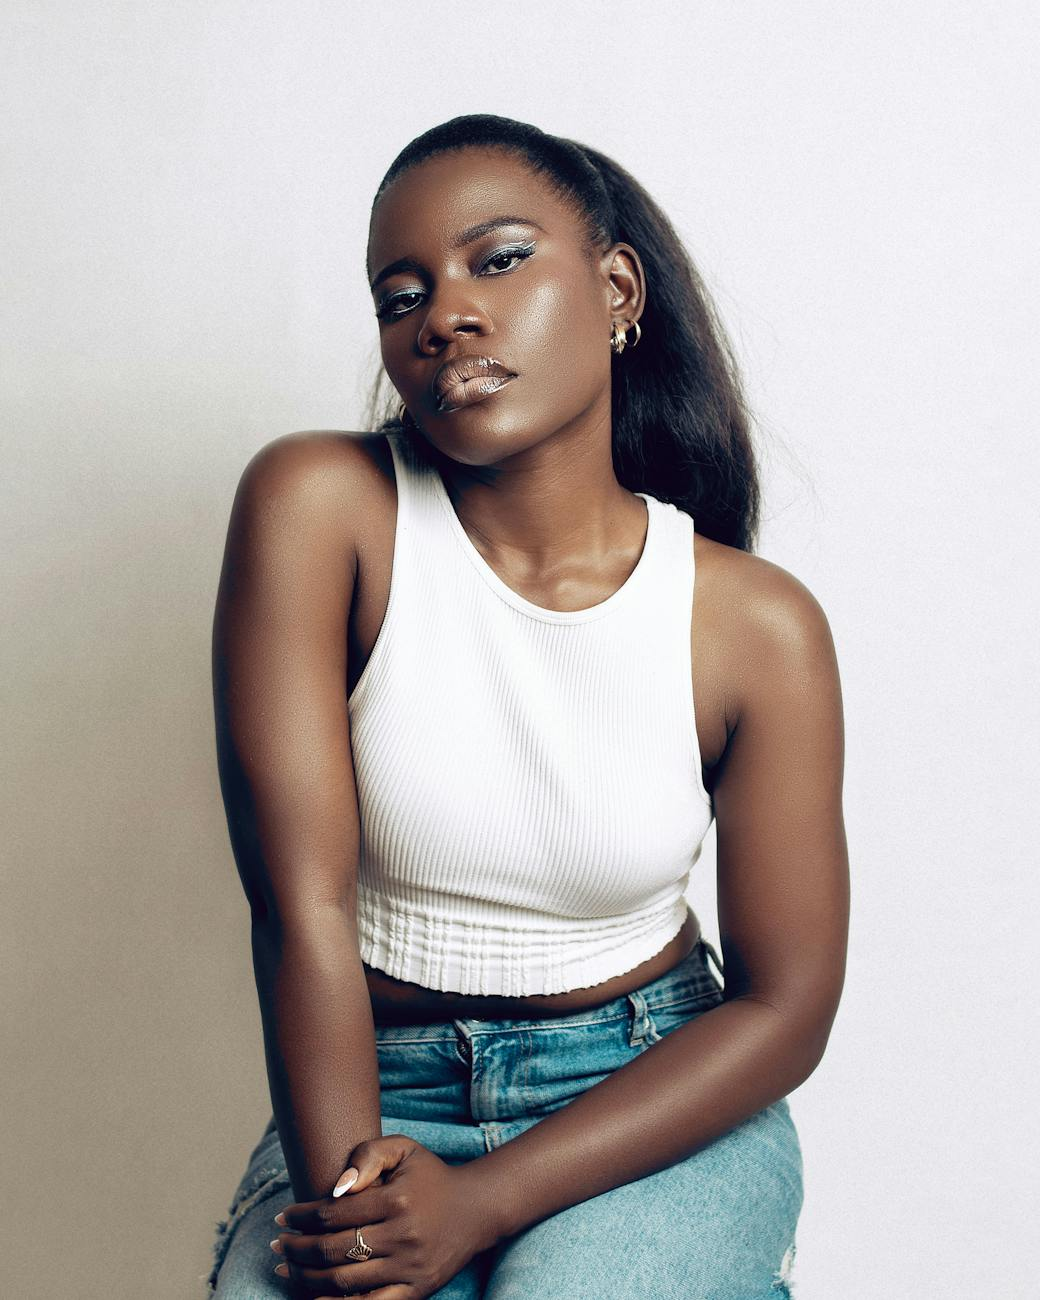crop_top: (264, 455, 773, 987)
